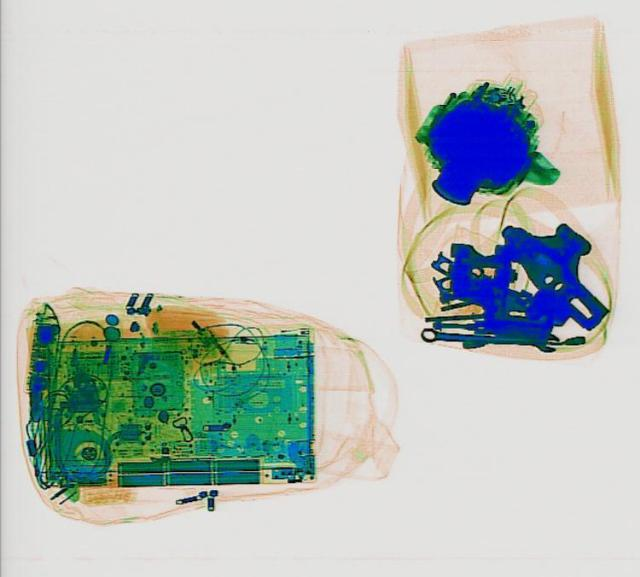Wrench: (418, 323, 560, 353)
